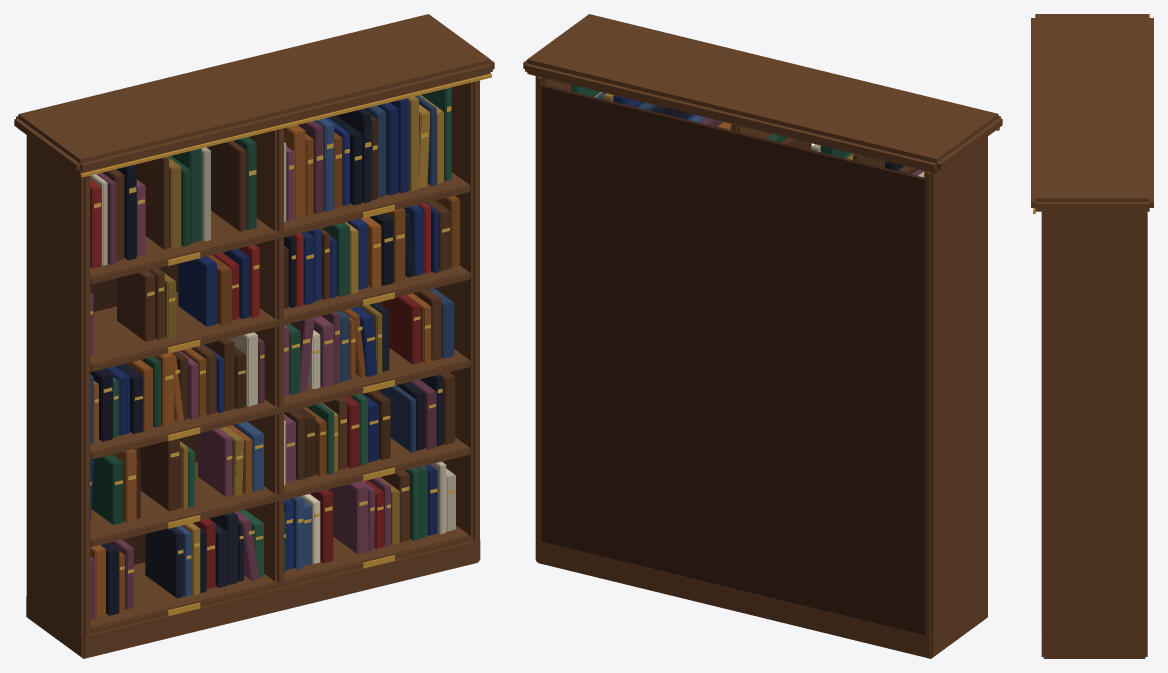
Rendered from shelf.glb.
3 views of the same model, side by side, from view 1: azimuth 30°, elevation 25°; view 2: azimuth 150°, elevation 25°; view 3: azimuth 270°, elevation 25° (orthographic). The views are drawn at different scales.
Parts seen in each view (by area): view 1: shelf_wood, shelf_books, shelf_brass, shelf_gold_leaf, shelf_wood_dark; view 2: shelf_wood_dark, shelf_wood, shelf_books; view 3: shelf_wood.
Part boxes in pixels (x1=…): shelf_wood: x1=14, y1=14, x2=494, y2=658; shelf_books: x1=90, y1=87, x2=459, y2=619; shelf_brass: x1=80, y1=73, x2=491, y2=615; shelf_gold_leaf: x1=90, y1=106, x2=455, y2=573; shelf_wood_dark: x1=90, y1=146, x2=382, y2=564; shelf_wood_dark: x1=541, y1=85, x2=925, y2=635; shelf_wood: x1=523, y1=14, x2=1002, y2=658; shelf_books: x1=571, y1=84, x2=924, y2=177; shelf_wood: x1=1031, y1=14, x2=1153, y2=658.
Bounding box in the file's own units: 2.1 × 2.42 × 0.58.
